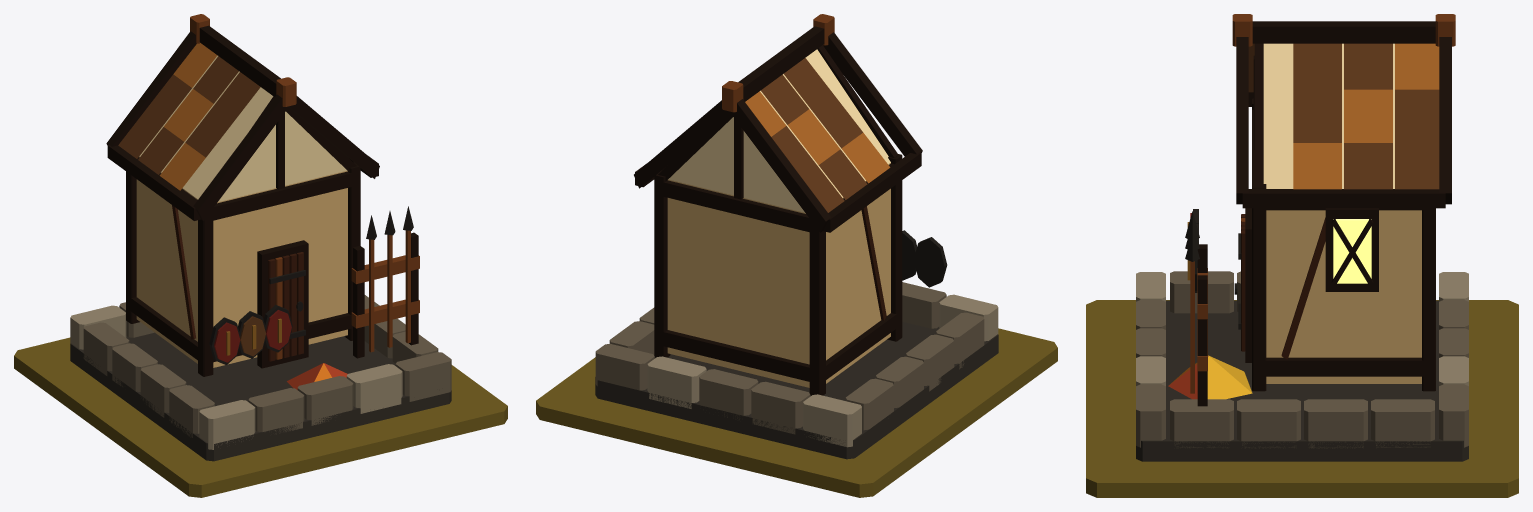
The model's file is armory_t1.glb.
The picture shows the model from 3 angles, left to right: view 1: azimuth 30°, elevation 25°; view 2: azimuth 150°, elevation 25°; view 3: azimuth 270°, elevation 25°; orthographic projection. The views are drawn at different scales.
Visible parts, largest first — view 1: MMR | armory | T01 Architecture.001, MMR | armory | Tier 01 Ground.001, MMR | armory | T01 Autumn Dressing.001; view 2: MMR | armory | T01 Architecture.001, MMR | armory | Tier 01 Ground.001; view 3: MMR | armory | T01 Architecture.001, MMR | armory | Tier 01 Ground.001, MMR | armory | T01 Autumn Dressing.001.
Boxes of the visible parts, x1=… form: MMR | armory | T01 Architecture.001: x1=70, y1=14, x2=451, y2=461; MMR | armory | Tier 01 Ground.001: x1=14, y1=337, x2=507, y2=497; MMR | armory | T01 Autumn Dressing.001: x1=287, y1=363, x2=347, y2=389; MMR | armory | T01 Architecture.001: x1=595, y1=14, x2=998, y2=459; MMR | armory | Tier 01 Ground.001: x1=536, y1=328, x2=1057, y2=497; MMR | armory | T01 Architecture.001: x1=1136, y1=14, x2=1468, y2=461; MMR | armory | Tier 01 Ground.001: x1=1086, y1=300, x2=1518, y2=497; MMR | armory | T01 Autumn Dressing.001: x1=1168, y1=355, x2=1252, y2=399.
Bounding box in the file's own units: 1.3 × 1.29 × 1.3.
2 materials, 1 textured.
